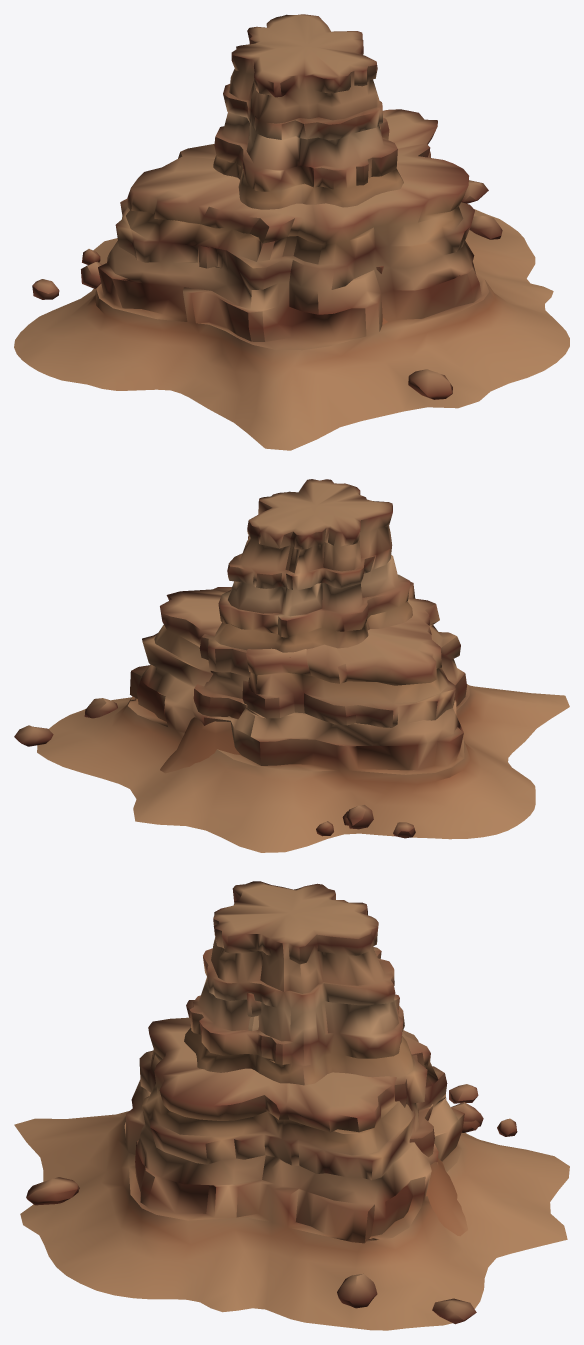
Rendered from scenery_low.glb.
3 views of the same model, one above another, from view 1: azimuth 30°, elevation 25°; view 2: azimuth 150°, elevation 25°; view 3: azimuth 270°, elevation 25° (orthographic). The views are drawn at different scales.
Visible parts, largest first — view 1: butte_b, butte_c; view 2: butte_b, butte_c; view 3: butte_b, butte_c.
Part boxes in pixels (<box>): butte_b: <box>14,109,569,450</box>; butte_c: <box>213,14,403,324</box>; butte_b: <box>14,581,569,852</box>; butte_c: <box>160,479,412,773</box>; butte_b: <box>14,1000,569,1330</box>; butte_c: <box>184,881,467,1236</box>.
Size of the model in its own units: 62.14 by 32.01 by 55.4.
